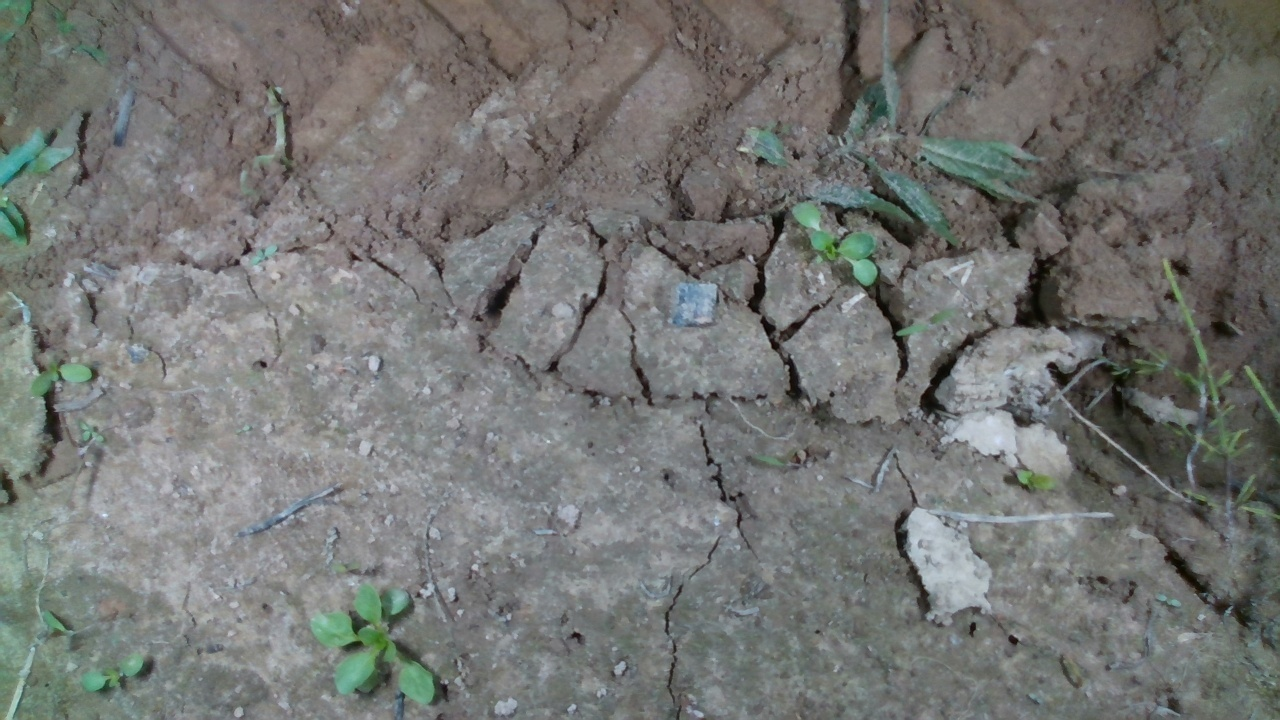weed: (78, 652, 146, 695), (28, 357, 93, 399), (893, 307, 954, 338), (1011, 467, 1057, 493), (76, 418, 106, 445), (247, 242, 280, 265), (1153, 591, 1183, 609)
